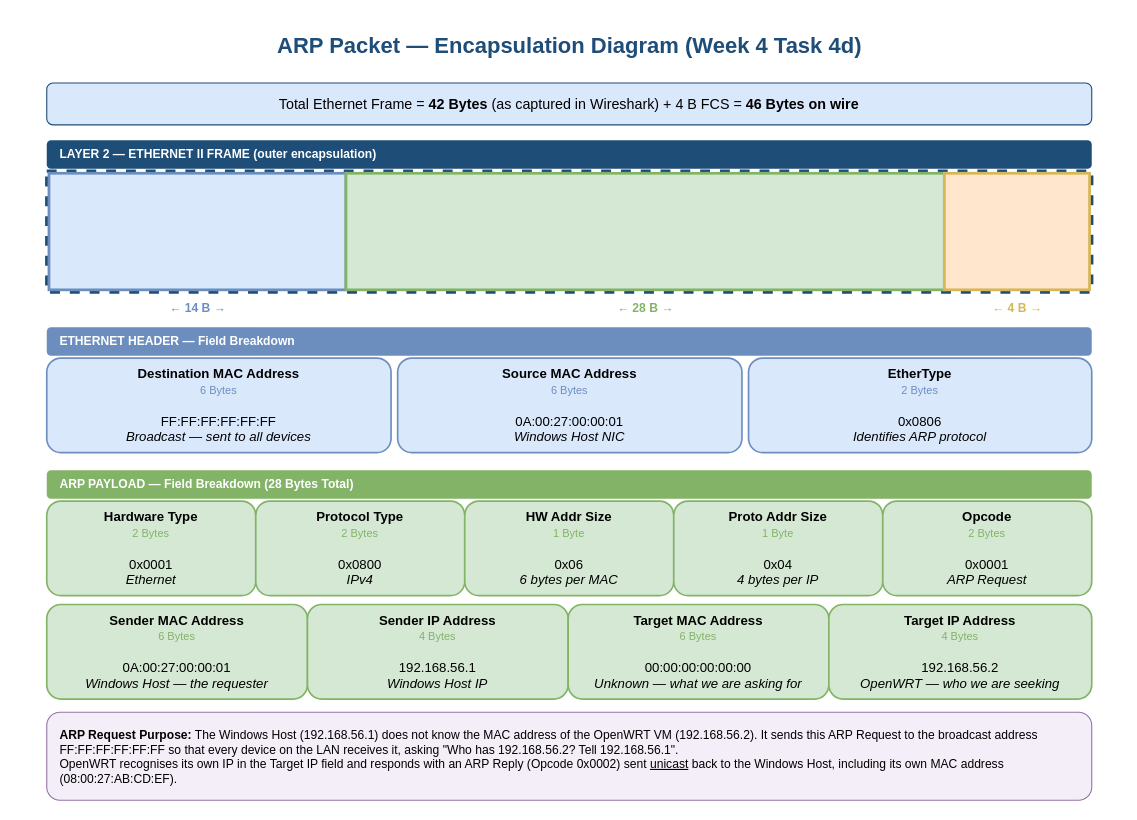
The diagram is 1137 pixels wide and 820 high, and some of its shapes have lost their labels. The box of each missing label's shape, as (x1, y1, x2, y2) in pixels:
ARP Payload 28 Bytes Address Resolution Protocol: (344, 171, 945, 291)
Ethernet Header 14 Bytes Dst MAC | Src MAC | EtherType: (47, 171, 347, 291)
FCS 4 Bytes Frame Check Sequence: (942, 171, 1090, 291)
